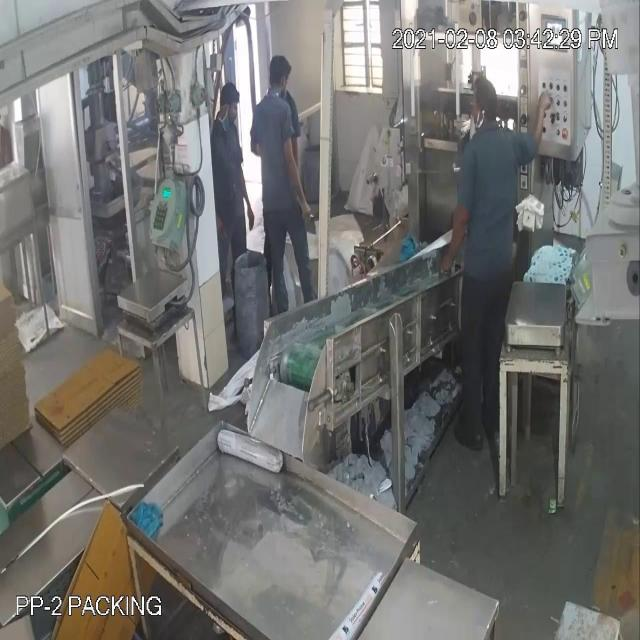No_Gloves: (27, 70, 546, 236)
